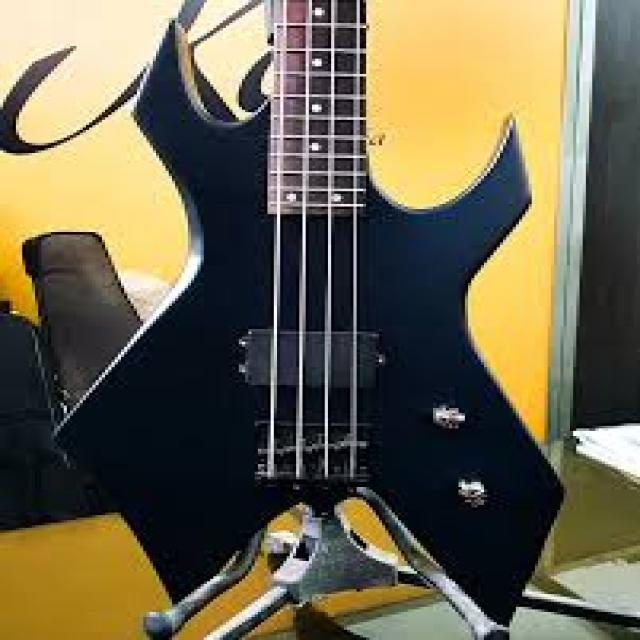bass: (54, 0, 560, 637)
